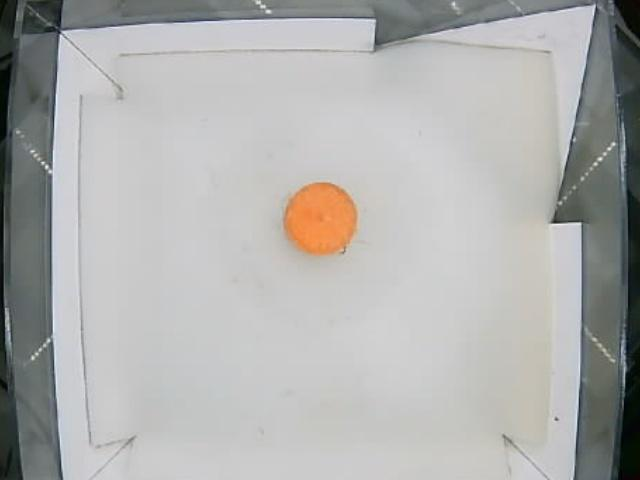Carrot: (284, 181, 358, 256)
